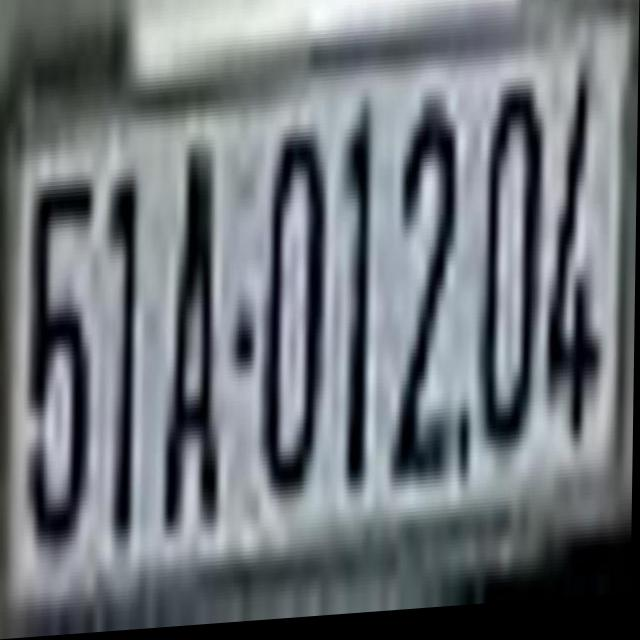0: (478, 38, 541, 488), (260, 113, 328, 528)
1: (332, 82, 380, 512), (105, 154, 145, 556)
2: (394, 82, 458, 481)
4: (546, 14, 612, 480)
5: (24, 138, 99, 565)
A: (160, 119, 223, 545)
